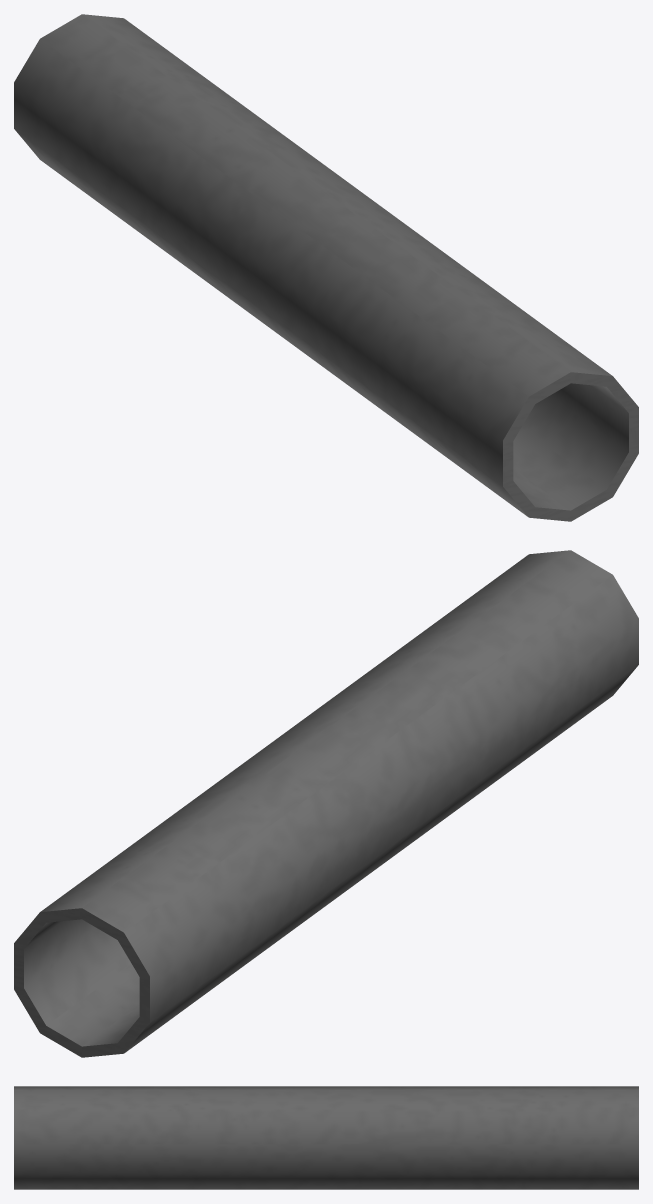
The model's file is BigPipe.fbx.
3 renders of one model, top to bottom at view 1: azimuth 30°, elevation 25°; view 2: azimuth 150°, elevation 25°; view 3: azimuth 270°, elevation 25°, orthographic. The views are drawn at different scales.
Parts seen in each view (by area): view 1: Cylinder; view 2: Cylinder; view 3: Cylinder.
Boxes of the visible parts, x1,y1,x2,y2 form: Cylinder: (14,14,638,521); Cylinder: (14,550,638,1057); Cylinder: (14,1086,638,1189).
Size of the model in its own units: 125 by 132 by 781.
